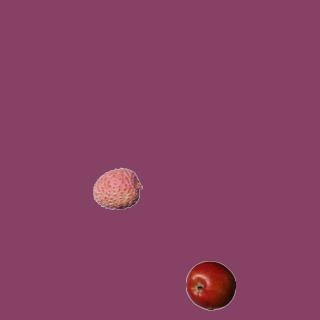Apple Braeburn: (185, 260, 235, 310)
Lychee: (92, 163, 142, 213)
